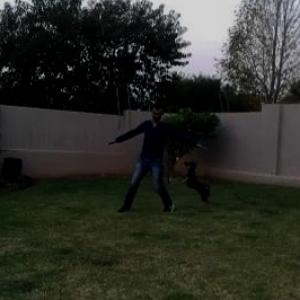land: (108, 104, 211, 224)
